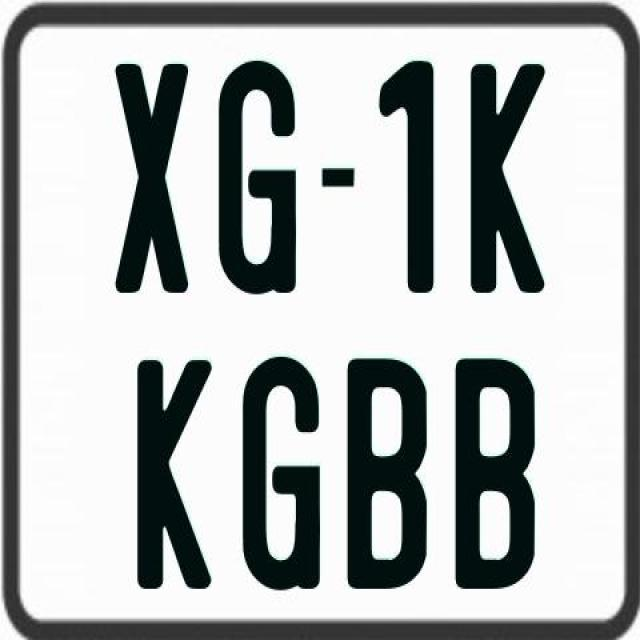1: (376, 61, 438, 294)
B: (454, 356, 542, 590), (346, 355, 430, 587)
G: (217, 61, 303, 304), (238, 356, 318, 588)
K: (470, 59, 552, 288), (137, 356, 212, 590)
X: (114, 63, 186, 294)
